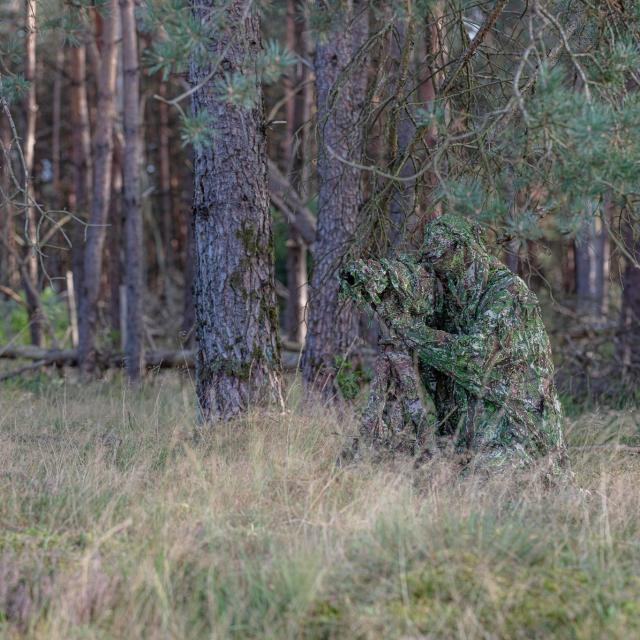Camouflage: (333, 214, 563, 470)
